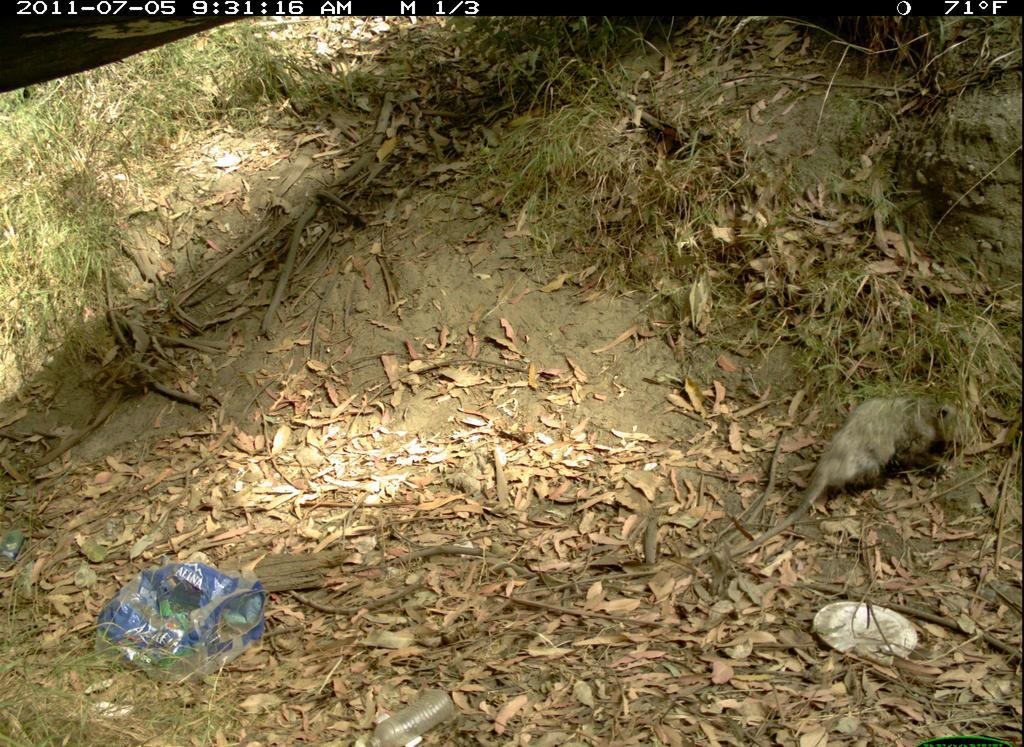opossum: (716, 379, 975, 564)
